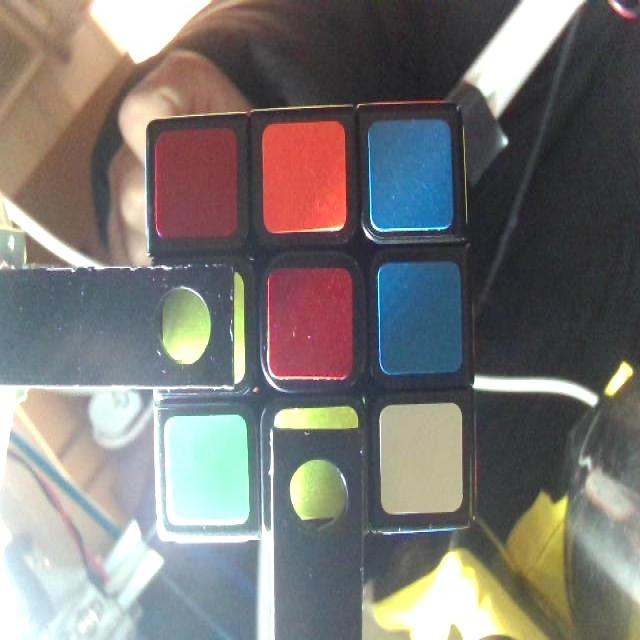b: (369, 115, 455, 233), (379, 265, 462, 374)
o: (266, 125, 346, 232)
r: (268, 265, 356, 380), (152, 130, 239, 239)
w: (166, 414, 250, 526)
y: (272, 404, 358, 528), (158, 271, 244, 383), (381, 407, 463, 512)
